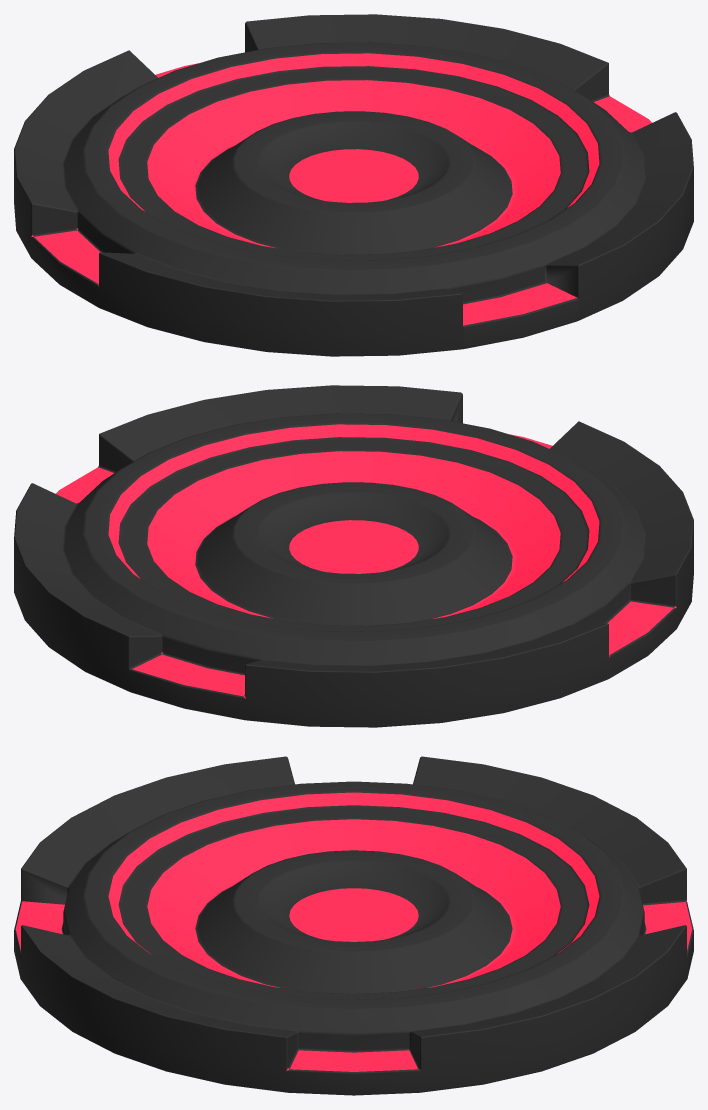
Rendered from bomba.fbx.
3 views of the same model, one above another, from view 1: azimuth 30°, elevation 25°; view 2: azimuth 150°, elevation 25°; view 3: azimuth 270°, elevation 25° (orthographic).
Visible parts, largest first — view 1: Cylinder.011; view 2: Cylinder.011; view 3: Cylinder.011.
Boxes of the visible parts, x1=… form: Cylinder.011: x1=14, y1=14, x2=693, y2=356; Cylinder.011: x1=14, y1=385, x2=693, y2=727; Cylinder.011: x1=14, y1=756, x2=693, y2=1095.
Bounding box in the file's own units: 200 × 18.63 × 200.
